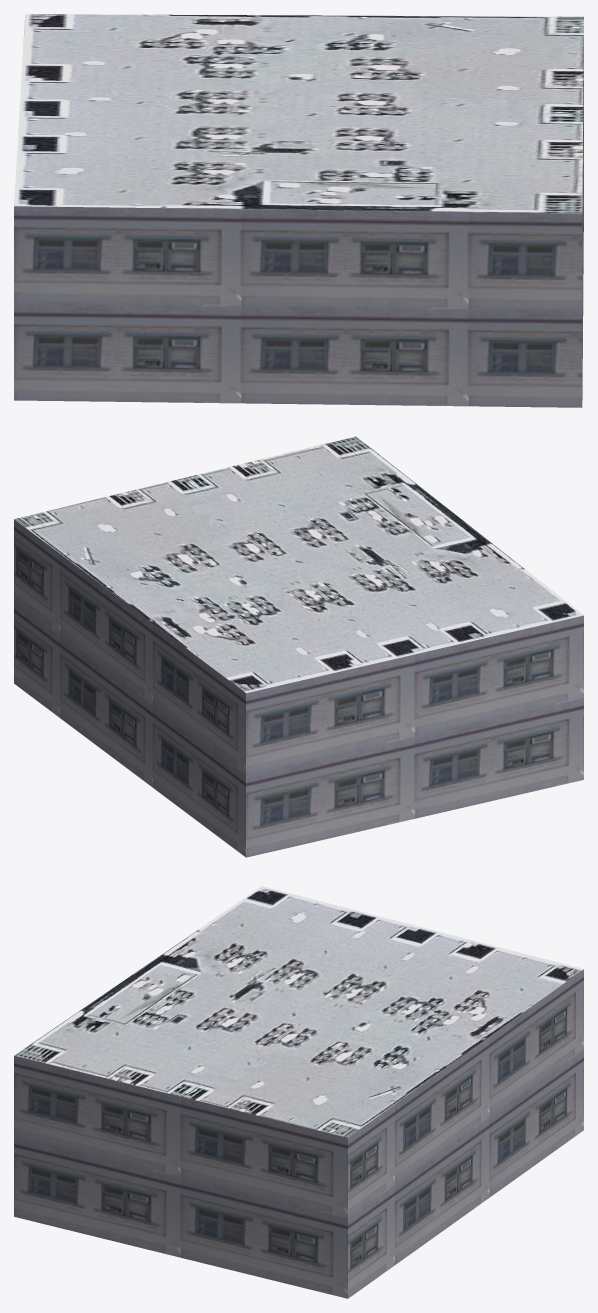
The model's file is ResTex__5101.fbx.
3 views of the same model, one above another, from view 1: azimuth 30°, elevation 25°; view 2: azimuth 150°, elevation 25°; view 3: azimuth 270°, elevation 25° (orthographic). The views are drawn at different scales.
Visible parts, largest first — view 1: CityEngineMaterial_1_m, CityEngineMaterial_m; view 2: CityEngineMaterial_1_m, CityEngineMaterial_m; view 3: CityEngineMaterial_1_m, CityEngineMaterial_m.
Boxes of the visible parts, bbox=[...] form: CityEngineMaterial_1_m: bbox=[14, 38, 583, 407]; CityEngineMaterial_m: bbox=[14, 14, 583, 213]; CityEngineMaterial_1_m: bbox=[14, 519, 583, 857]; CityEngineMaterial_m: bbox=[14, 436, 583, 693]; CityEngineMaterial_1_m: bbox=[14, 969, 583, 1298]; CityEngineMaterial_m: bbox=[14, 886, 583, 1137].
Size of the model in its own units: 20.1 by 6 by 19.24.
2 materials, 2 textured.
